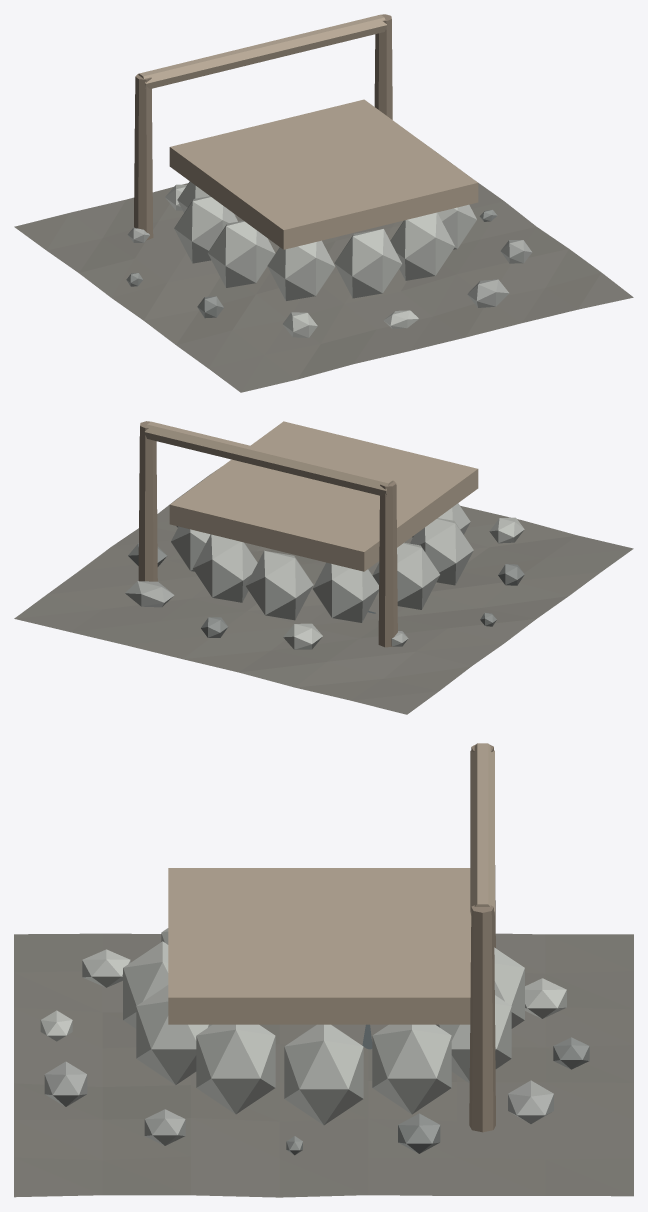
The model's file is dry_well_ladder_sealed.glb.
The picture shows the model from 3 angles, top to bottom: view 1: azimuth 30°, elevation 25°; view 2: azimuth 150°, elevation 25°; view 3: azimuth 270°, elevation 25°; orthographic projection. The views are drawn at different scales.
Parts seen in each view (by area): view 1: dry_well_ladder_sealed_color_00, dry_well_ladder_sealed_color_05, dry_well_ladder_sealed_color_03, dry_well_ladder_sealed_color_06, dry_well_ladder_sealed_color_02, dry_well_ladder_sealed_color_01; view 2: dry_well_ladder_sealed_color_00, dry_well_ladder_sealed_color_05, dry_well_ladder_sealed_color_03, dry_well_ladder_sealed_color_06, dry_well_ladder_sealed_color_01, dry_well_ladder_sealed_color_02; view 3: dry_well_ladder_sealed_color_00, dry_well_ladder_sealed_color_05, dry_well_ladder_sealed_color_03, dry_well_ladder_sealed_color_06, dry_well_ladder_sealed_color_02, dry_well_ladder_sealed_color_01.
Part boxes in pixels (x1,y1,x2,y2): dry_well_ladder_sealed_color_00: [14, 148, 633, 392]; dry_well_ladder_sealed_color_05: [138, 14, 478, 249]; dry_well_ladder_sealed_color_03: [165, 181, 476, 337]; dry_well_ladder_sealed_color_06: [134, 14, 392, 240]; dry_well_ladder_sealed_color_02: [127, 227, 532, 307]; dry_well_ladder_sealed_color_01: [126, 210, 497, 318]; dry_well_ladder_sealed_color_00: [14, 467, 633, 714]; dry_well_ladder_sealed_color_05: [144, 421, 478, 571]; dry_well_ladder_sealed_color_03: [171, 503, 524, 649]; dry_well_ladder_sealed_color_06: [138, 421, 397, 647]; dry_well_ladder_sealed_color_01: [128, 526, 524, 637]; dry_well_ladder_sealed_color_02: [125, 581, 408, 646]; dry_well_ladder_sealed_color_00: [14, 933, 633, 1197]; dry_well_ladder_sealed_color_05: [168, 743, 494, 1024]; dry_well_ladder_sealed_color_03: [40, 928, 566, 1125]; dry_well_ladder_sealed_color_06: [469, 744, 495, 1132]; dry_well_ladder_sealed_color_02: [44, 1061, 553, 1145]; dry_well_ladder_sealed_color_01: [286, 1037, 589, 1155].
Size of the model in its own units: 2.93 by 1.34 by 2.93.
